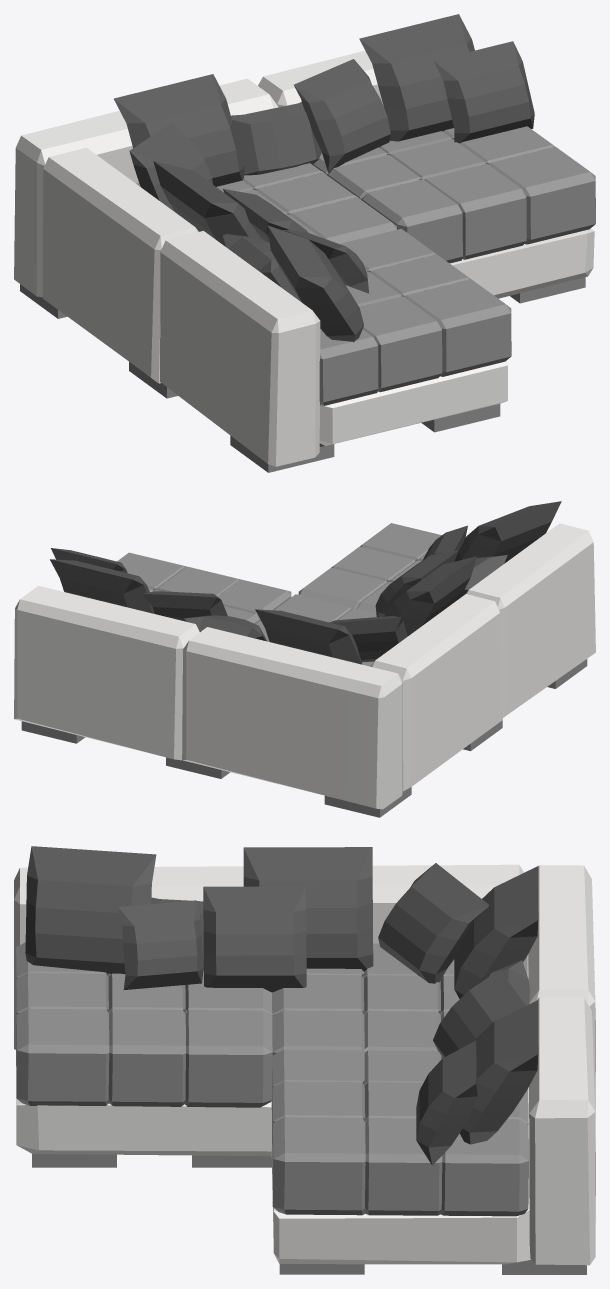
Rendered from Chair_Couch_2_231109.glb.
3 renders of one model, top to bottom at view 1: azimuth 30°, elevation 25°; view 2: azimuth 150°, elevation 25°; view 3: azimuth 270°, elevation 25°, orthographic. The views are drawn at different scales.
Parts seen in each view (by area): view 1: Couch_2; view 2: Couch_2; view 3: Couch_2.
Part boxes in pixels (x1,y1,x2,y2): Couch_2: (14,14,595,472); Couch_2: (14,501,595,817); Couch_2: (14,846,595,1274).
Bounding box in the file's own units: 3.19 × 1.31 × 3.18.
Materials: 1 (1 with a texture image).
